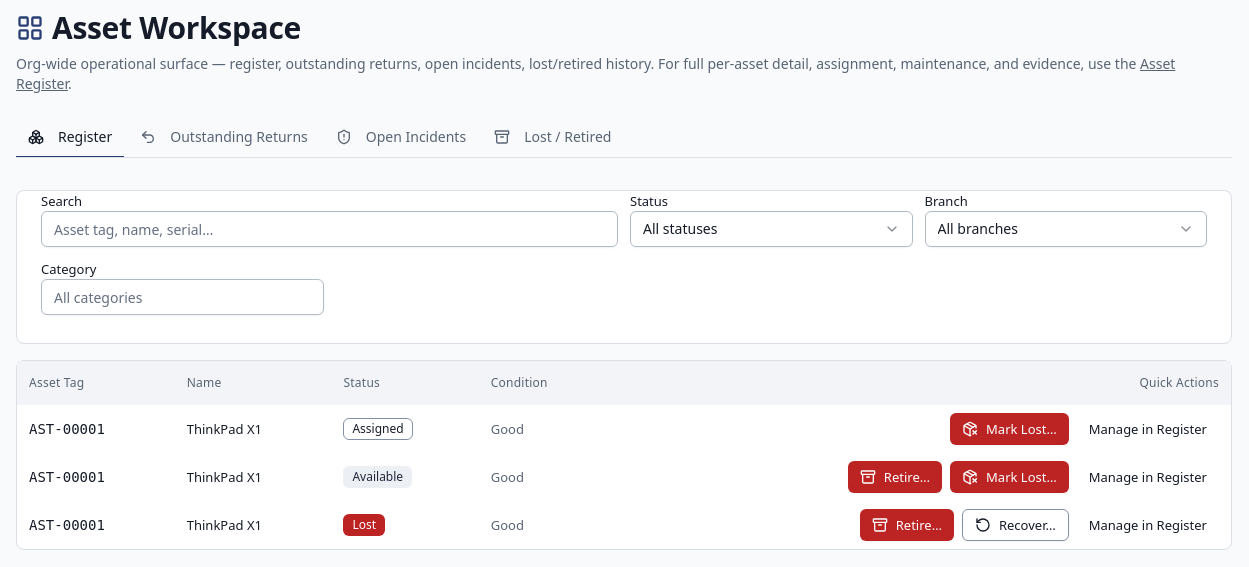
Test case: Asset Workspace page › Outstanding Returns tab › shows only currently-assigned assets, never available/lost/retired ones
Click the tab with test id "tab-workspace-outstanding" at (224, 138), box left=128, top=118, right=320, bottom=158
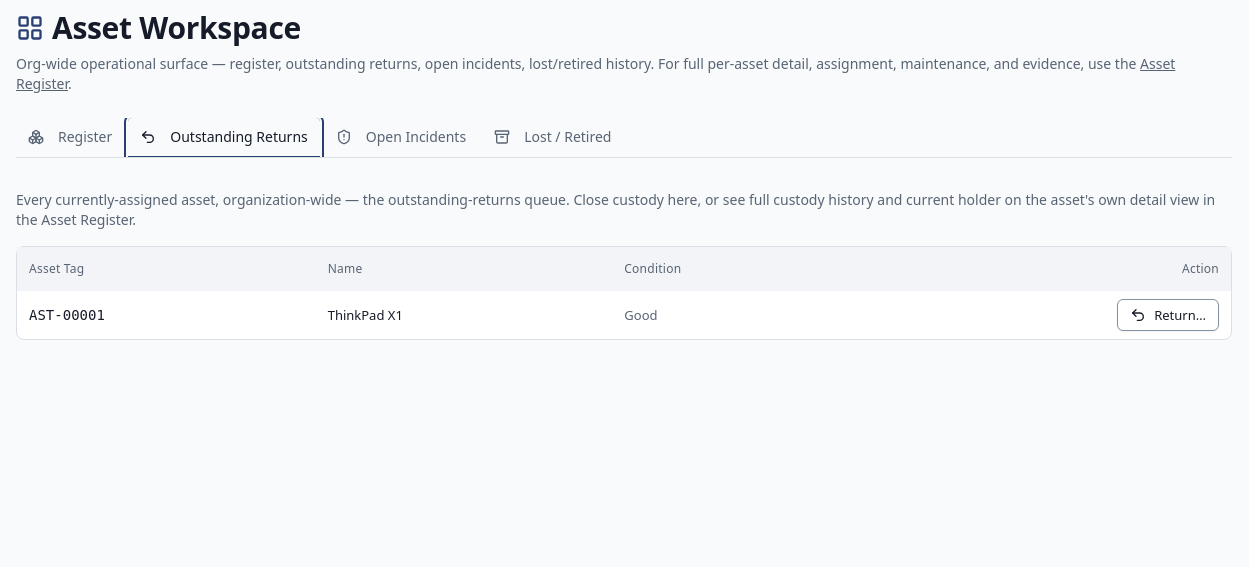
Result: the row with test id "row-workspace-outstanding-1" is shown at left=17, top=291, right=1231, bottom=339
